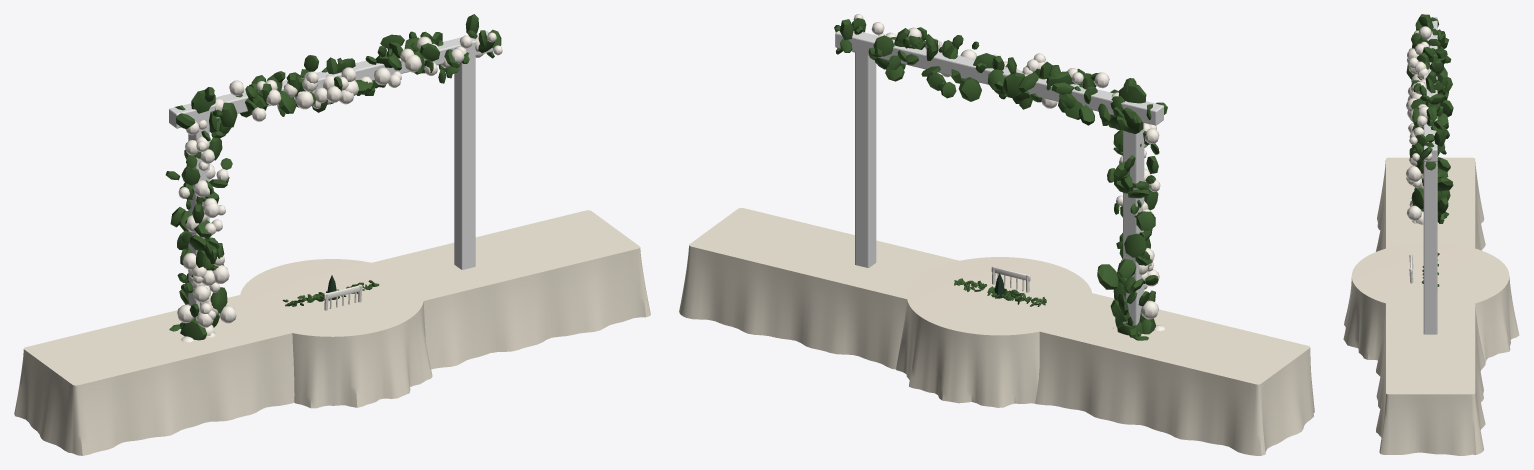
The model's file is props.glb.
The picture shows the model from 3 angles, left to right: view 1: azimuth 30°, elevation 25°; view 2: azimuth 150°, elevation 25°; view 3: azimuth 270°, elevation 25°; orthographic projection. The views are drawn at different scales.
Visible parts, largest first — view 1: TableLong, TableRound, Arch_leaves, Arch_flowers, ArchWood; view 2: TableLong, TableRound, Arch_leaves, ArchWood, Arch_flowers, Garland; view 3: TableLong, TableRound, Arch_leaves, ArchWood, Arch_flowers.
Boxes of the visible parts, <box> form: TableLong: <box>14,210,650,455</box>; TableRound: <box>240,259,432,408</box>; Arch_leaves: <box>165,14,501,340</box>; Arch_flowers: <box>177,32,502,342</box>; ArchWood: <box>169,31,493,320</box>; TableLong: <box>679,208,1314,455</box>; TableRound: <box>896,257,1092,407</box>; Arch_leaves: <box>834,18,1167,340</box>; ArchWood: <box>835,31,1163,325</box>; Arch_flowers: <box>852,14,1164,331</box>; Garland: <box>954,278,1046,306</box>; TableLong: <box>1376,157,1485,455</box>; TableRound: <box>1343,243,1519,362</box>; Arch_leaves: <box>1406,14,1453,223</box>; ArchWood: <box>1423,17,1437,334</box>; Arch_flowers: <box>1406,26,1432,224</box>.
Size of the model in its own units: 6.63 by 3.39 by 2.01.
